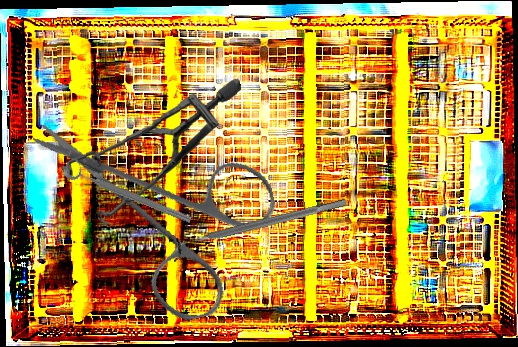Fixation Ring: (167, 188, 350, 263), (61, 155, 197, 227)
Iris Scissors: (30, 78, 297, 345)
Speculum: (57, 78, 248, 229)
